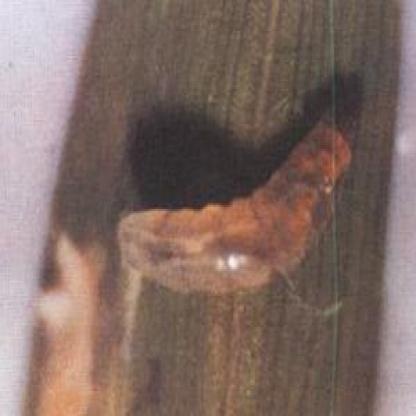whorl-maggot: (120, 117, 358, 297)
